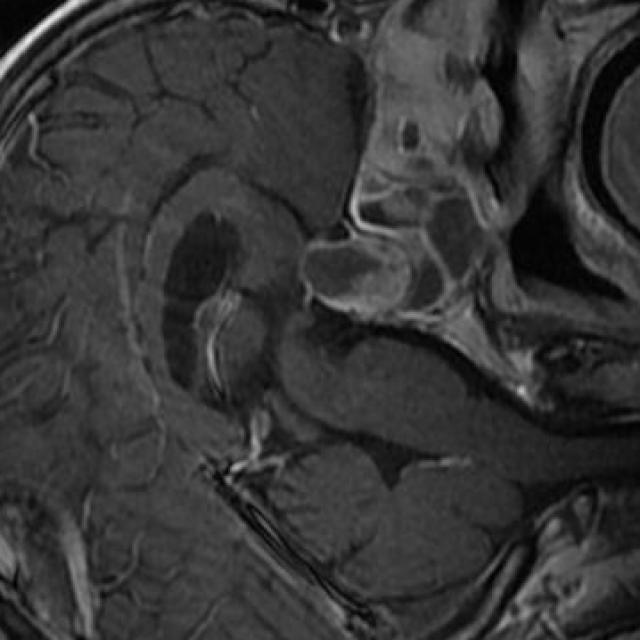pituitary: (303, 241, 412, 319)
